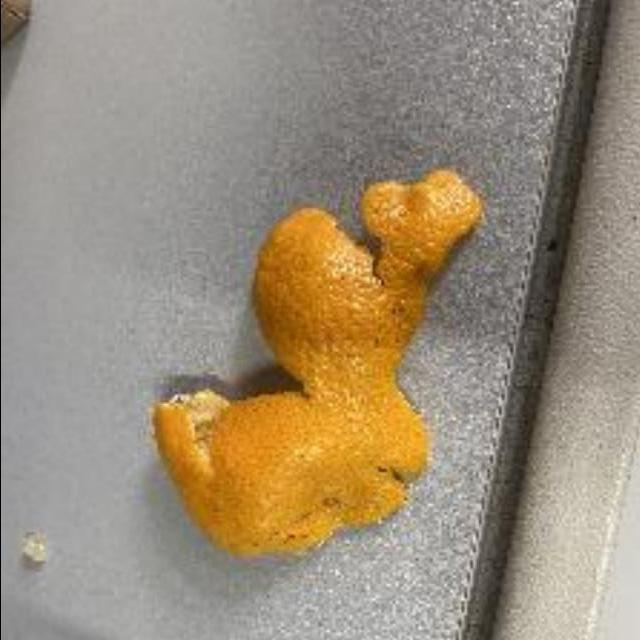orange peel: (148, 175, 486, 552)
